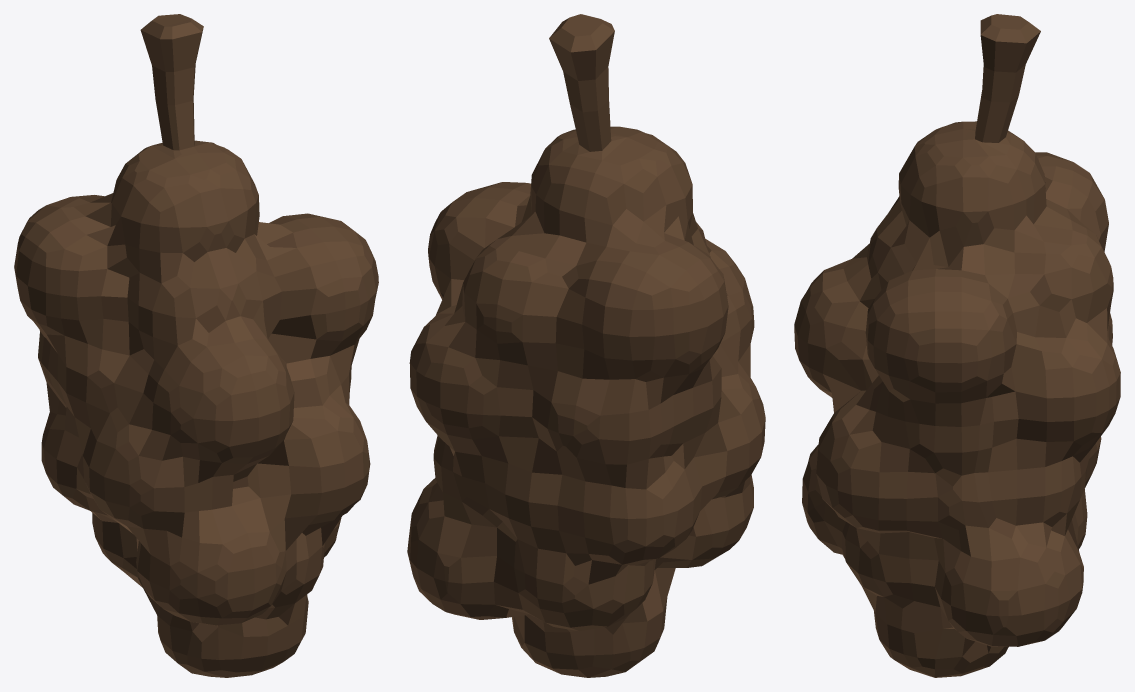
File: G_Juice.fbx
3 views of the same model, side by side, from view 1: azimuth 30°, elevation 25°; view 2: azimuth 150°, elevation 25°; view 3: azimuth 270°, elevation 25° (orthographic). The views are drawn at different scales.
Visible parts, largest first — view 1: G_Juice; view 2: G_Juice; view 3: G_Juice.
Boxes of the visible parts, <box> form: G_Juice: <box>14,14,378,677</box>; G_Juice: <box>407,14,765,677</box>; G_Juice: <box>794,14,1120,677</box>.
Bounding box in the file's own units: 139 × 277 × 130.
